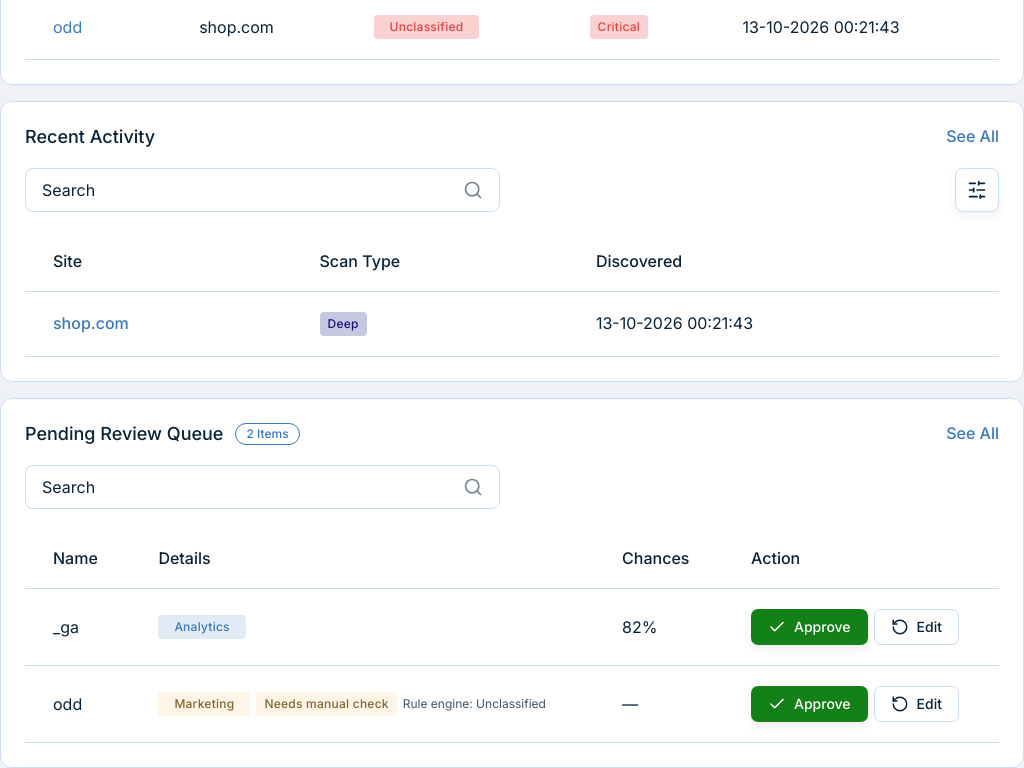
DashboardPage › keeps an approval that was saved but not published, marked with Retry (E4)
(page scrolled)
Click the button with aria-label "Approve _ga": (809,627) [751,609,868,645]
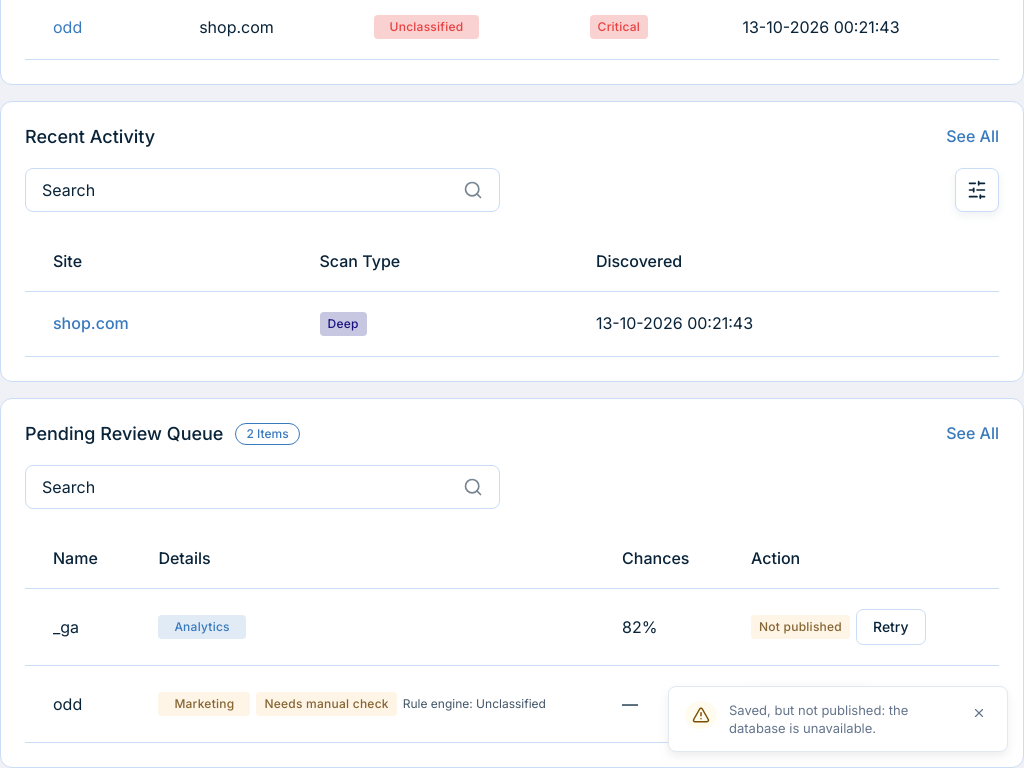
Check: the row "_ga Analytics 82% Not published Retry" is shown, box [25,589,999,666]
Check: the text with class "toast__message" reads "Saved, but not published: the database is unavailable.", box [729,702,908,736]
Check: the button with aria-label "Retry _ga" is shown, box [856,609,926,645]
